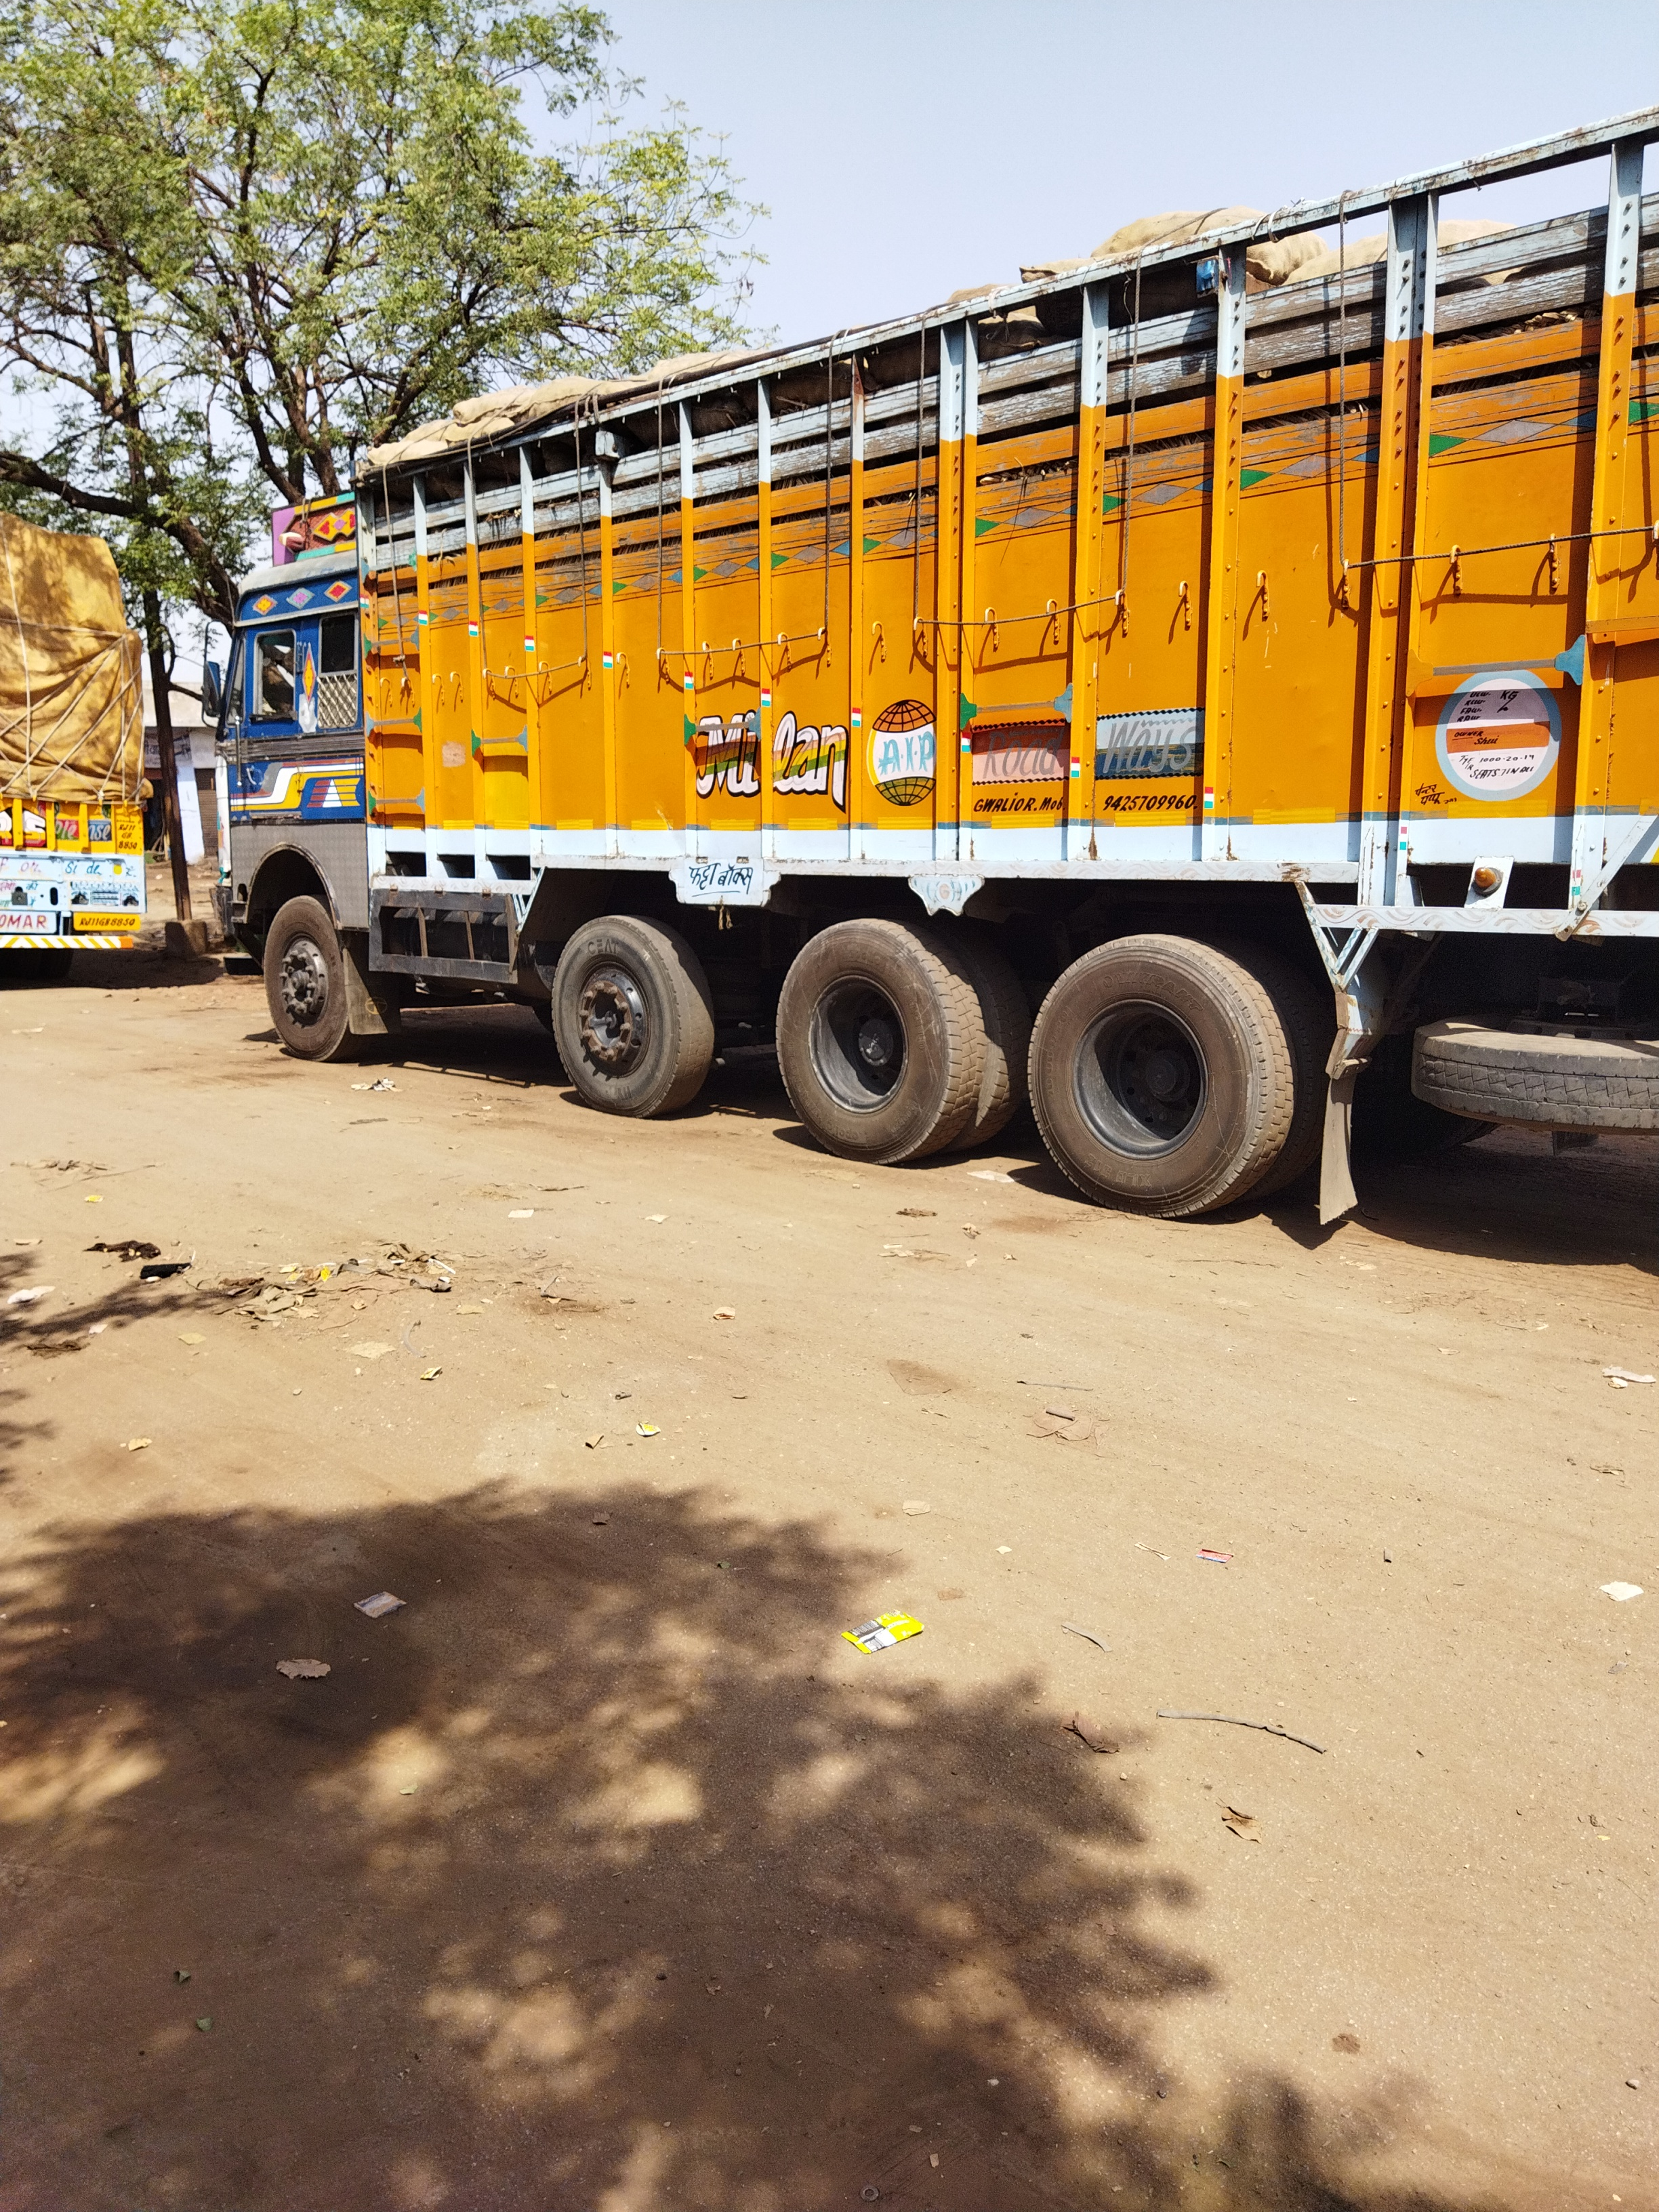truck: (195, 92, 1659, 1235), (0, 507, 155, 982)
